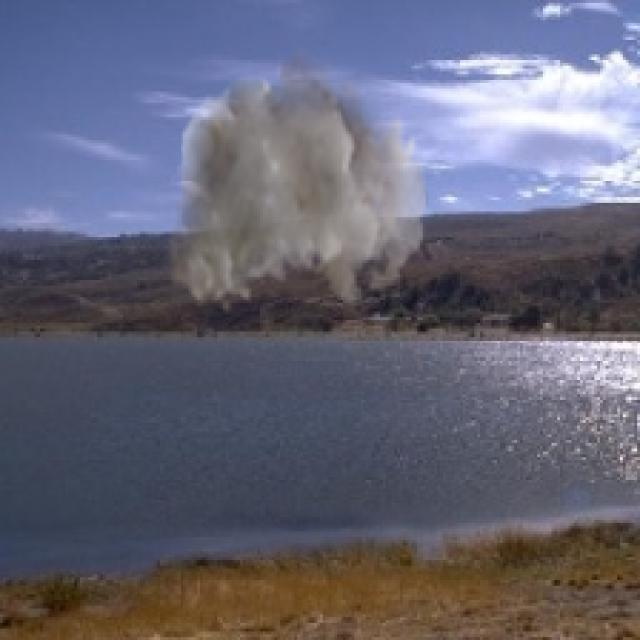Smoke: (165, 43, 428, 314)
